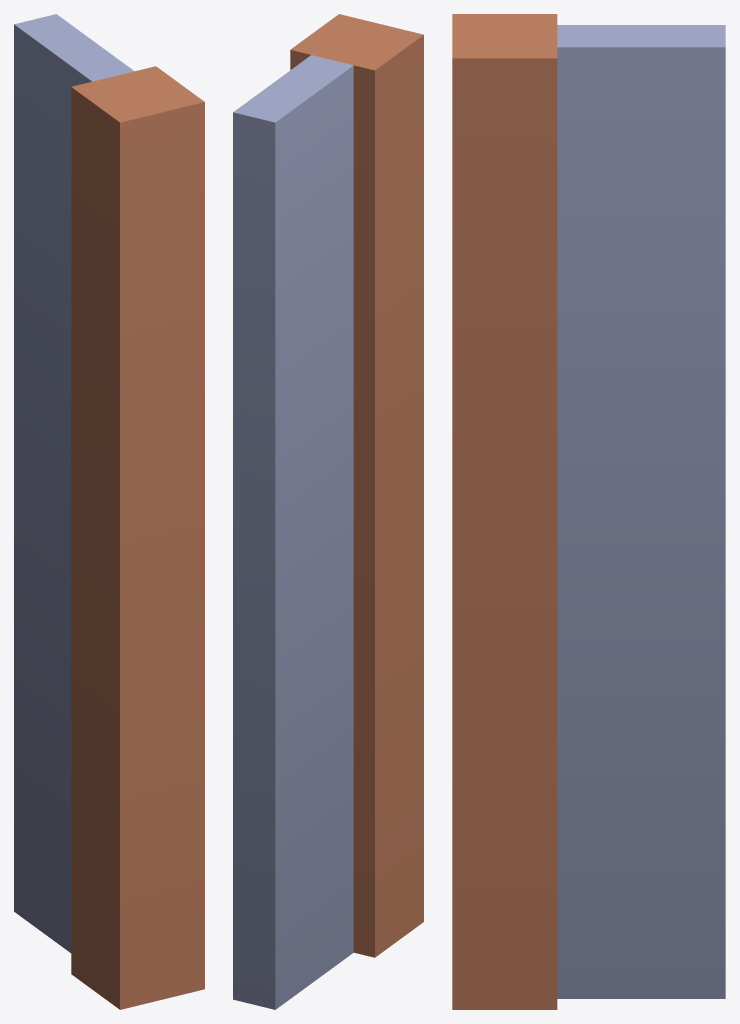
File: wall-side.glb
3 views of the same model, side by side, from view 1: azimuth 30°, elevation 25°; view 2: azimuth 150°, elevation 25°; view 3: azimuth 270°, elevation 25° (orthographic). The views are drawn at different scales.
Visible parts, largest first — view 1: wall-side; view 2: wall-side; view 3: wall-side.
Boxes of the visible parts, x1,y1,x2,y2 form: wall-side: [14, 14, 204, 1009]; wall-side: [233, 14, 423, 1009]; wall-side: [452, 14, 725, 1009].
Size of the model in its own units: 0.1 by 1 by 0.26.
1 material, 1 textured.
